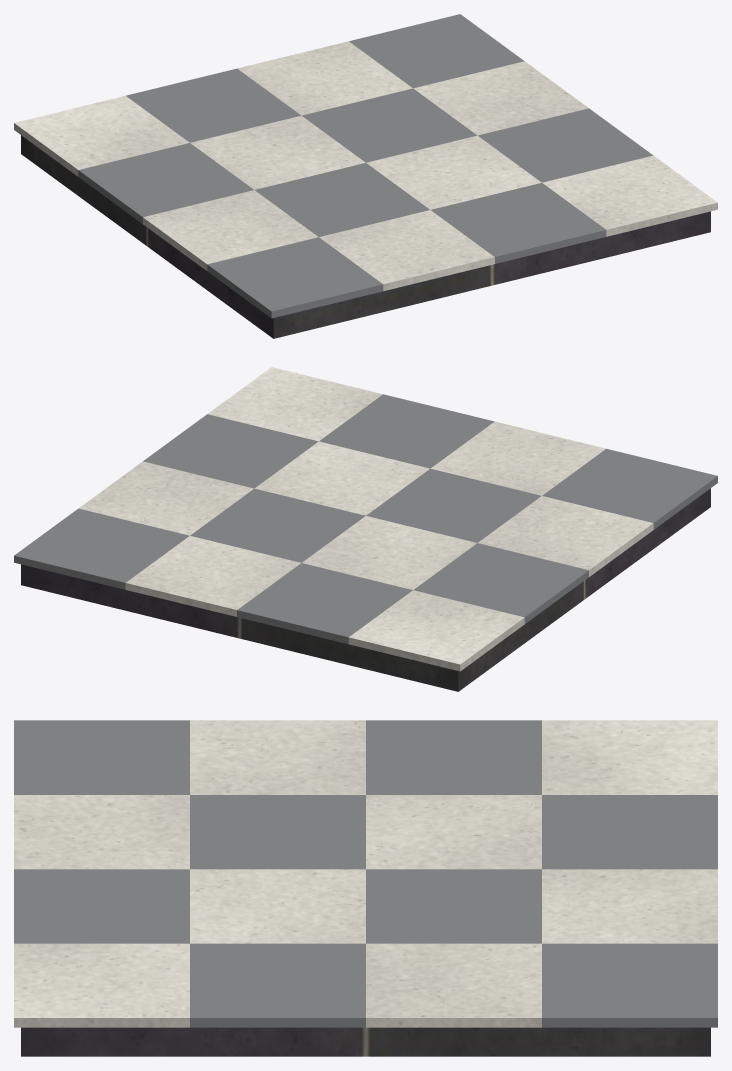
Rendered from floor_marble_g.glb.
The picture shows the model from 3 angles, top to bottom: view 1: azimuth 30°, elevation 25°; view 2: azimuth 150°, elevation 25°; view 3: azimuth 270°, elevation 25°; orthographic projection. The views are drawn at different scales.
Parts seen in each view (by area): view 1: floor_marble_g_marble, floor_marble_g_slate, floor_marble_g_plinth; view 2: floor_marble_g_slate, floor_marble_g_marble, floor_marble_g_plinth; view 3: floor_marble_g_marble, floor_marble_g_slate, floor_marble_g_plinth.
Boxes of the visible parts, x1,y1,x2,y2 form: floor_marble_g_marble: (14, 41, 717, 291); floor_marble_g_slate: (78, 14, 653, 318); floor_marble_g_plinth: (21, 135, 710, 338); floor_marble_g_slate: (14, 394, 717, 644); floor_marble_g_marble: (78, 367, 653, 671); floor_marble_g_plinth: (21, 488, 710, 691); floor_marble_g_marble: (14, 720, 717, 1027); floor_marble_g_slate: (14, 720, 717, 1027); floor_marble_g_plinth: (21, 1027, 710, 1056).
Bounding box in the file's own units: 2 × 0.13 × 2.
3 materials, 2 textured.
